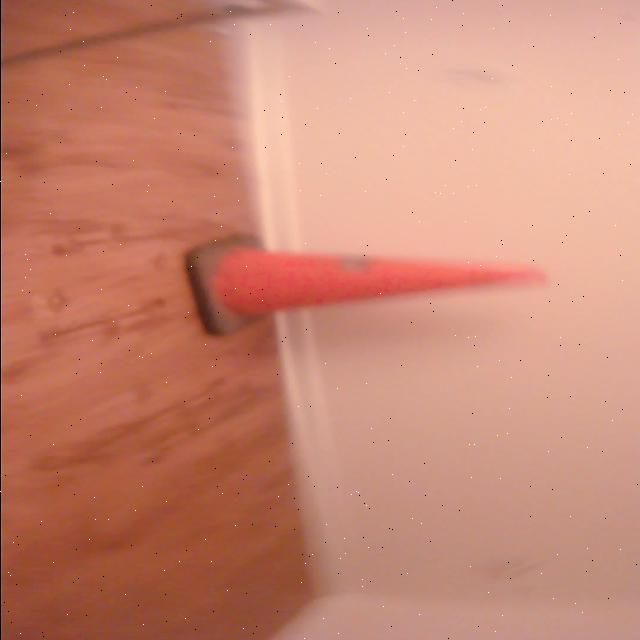traffic cone: (170, 230, 553, 342)
